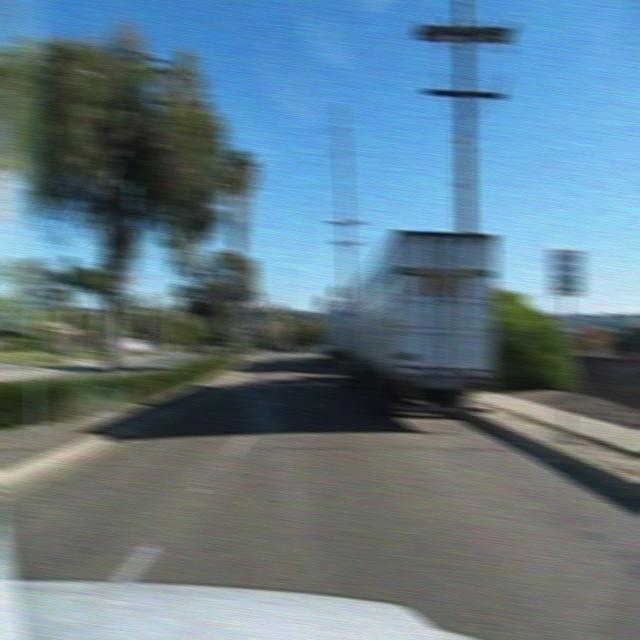speedLimit35: (13, 261, 50, 308), (548, 247, 583, 296)
